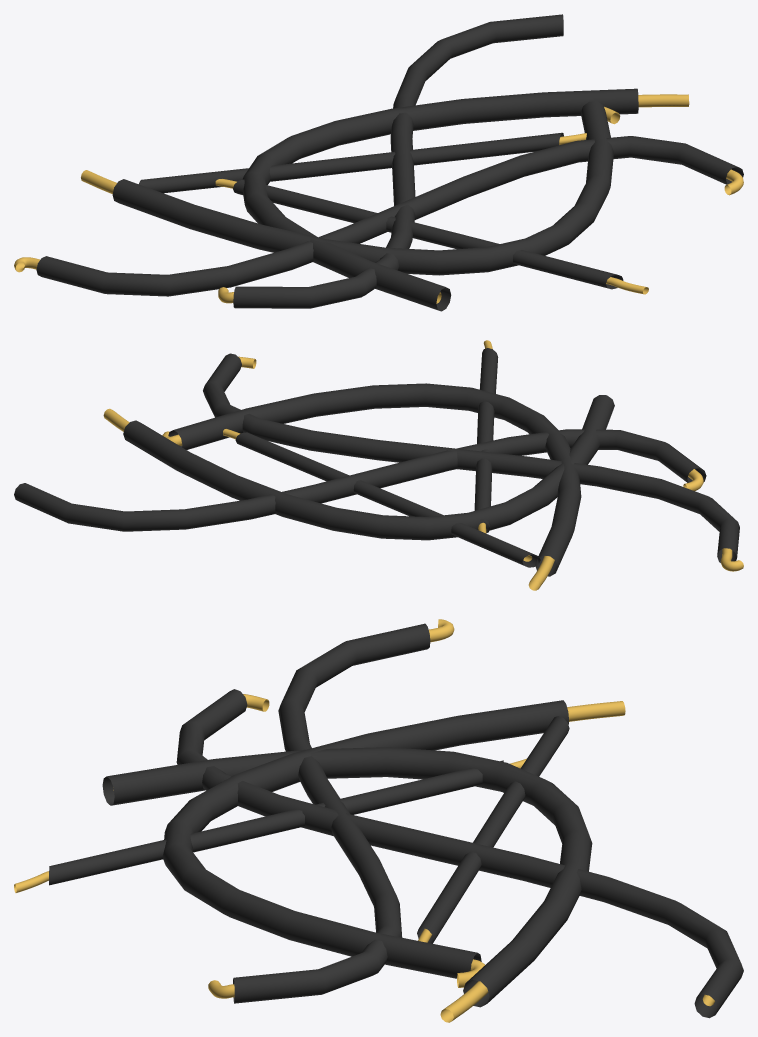
Rendered from electric_wire.fbx.
The picture shows the model from 3 angles, top to bottom: view 1: azimuth 30°, elevation 25°; view 2: azimuth 150°, elevation 25°; view 3: azimuth 270°, elevation 25°; orthographic projection. The views are drawn at different scales.
Visible parts, largest first — view 1: BezierCurve, BezierCurve.011, BezierCurve.004, BezierCurve.009, BezierCurve.013, BezierCurve.006, BezierCurve.012, BezierCurve.001, BezierCurve.005, BezierCurve.007; view 2: BezierCurve.009, BezierCurve.011, BezierCurve.004, BezierCurve, BezierCurve.013, BezierCurve.006, BezierCurve.005, BezierCurve.001; view 3: BezierCurve.004, BezierCurve.011, BezierCurve.009, BezierCurve, BezierCurve.006, BezierCurve.013, BezierCurve.005, BezierCurve.012, BezierCurve.001.
Boxes of the visible parts, x1,y1,x2,y2 form: BezierCurve: (36, 136, 743, 296); BezierCurve.011: (242, 88, 638, 311); BezierCurve.004: (112, 101, 613, 275); BezierCurve.009: (233, 14, 563, 308); BezierCurve.013: (139, 132, 563, 193); BezierCurve.006: (233, 179, 623, 289); BezierCurve.012: (436, 94, 689, 303); BezierCurve.001: (14, 169, 743, 272); BezierCurve.005: (81, 106, 620, 193); BezierCurve.007: (215, 179, 648, 294); BezierCurve.009: (14, 429, 706, 531); BezierCurve.011: (123, 395, 614, 540); BezierCurve.004: (168, 383, 581, 576); BezierCurve: (203, 353, 739, 562); BezierCurve.013: (235, 432, 540, 567); BezierCurve.006: (474, 348, 498, 532); BezierCurve.005: (162, 431, 554, 590); BezierCurve.001: (238, 356, 743, 571); BezierCurve.004: (162, 700, 568, 978); BezierCurve.011: (102, 747, 592, 1007); BezierCurve.009: (176, 689, 743, 1018); BezierCurve: (233, 623, 430, 1003); BezierCurve.006: (49, 760, 503, 885); BezierCurve.013: (417, 716, 569, 943); BezierCurve.005: (457, 701, 625, 987); BezierCurve.012: (113, 790, 488, 1022); BezierCurve.001: (208, 619, 454, 998).
Size of the model in its own units: 48.13 by 1.48 by 37.64.
